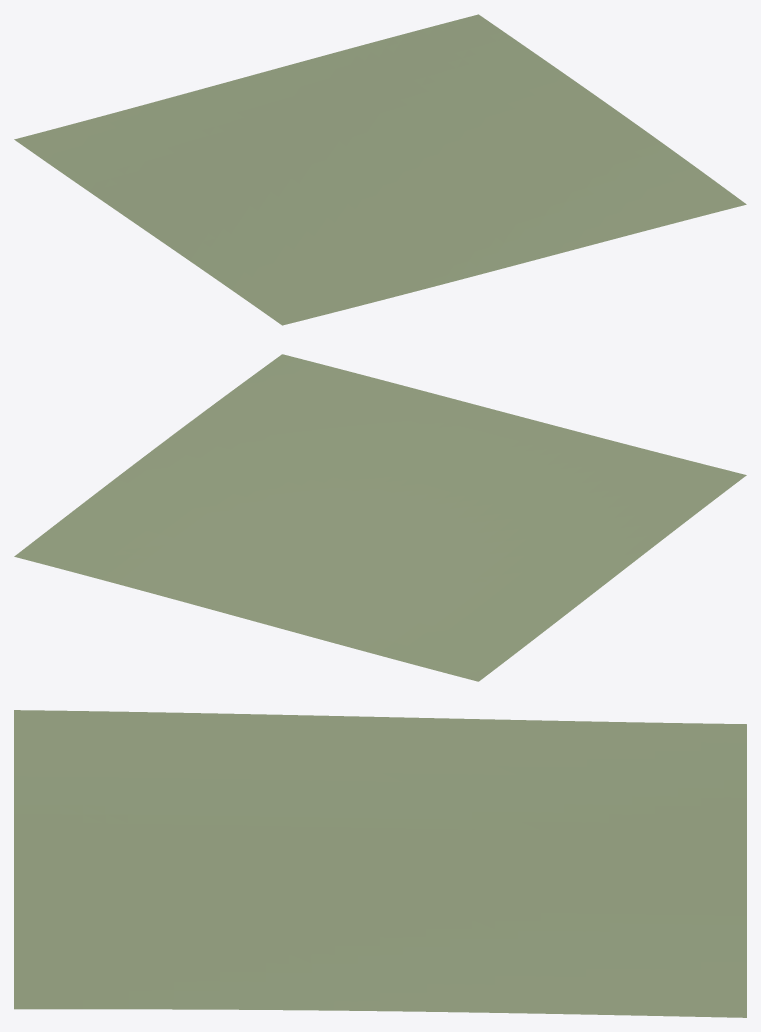
File: expanse-16-27.glb
The picture shows the model from 3 angles, top to bottom: view 1: azimuth 30°, elevation 25°; view 2: azimuth 150°, elevation 25°; view 3: azimuth 270°, elevation 25°; orthographic projection. The views are drawn at different scales.
Visible parts, largest first — view 1: expanse-16-27; view 2: expanse-16-27; view 3: expanse-16-27.
Part boxes in pixels (x1=…): expanse-16-27: x1=14, y1=14, x2=746, y2=325; expanse-16-27: x1=14, y1=354, x2=746, y2=681; expanse-16-27: x1=14, y1=710, x2=746, y2=1017.
Bounding box in the file's own units: 256 × 9.48 × 256.
